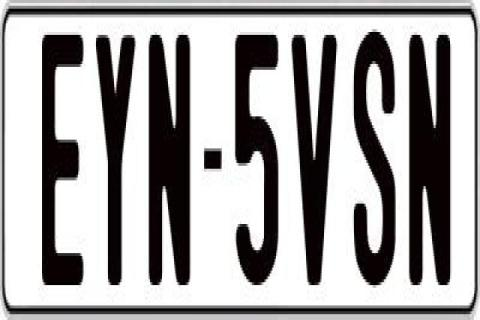0: (234, 32, 278, 285)
E: (42, 29, 88, 297)
N: (148, 32, 194, 300), (408, 26, 452, 282)
S: (354, 24, 396, 294)
V: (289, 35, 338, 291)
Y: (94, 32, 140, 291)
